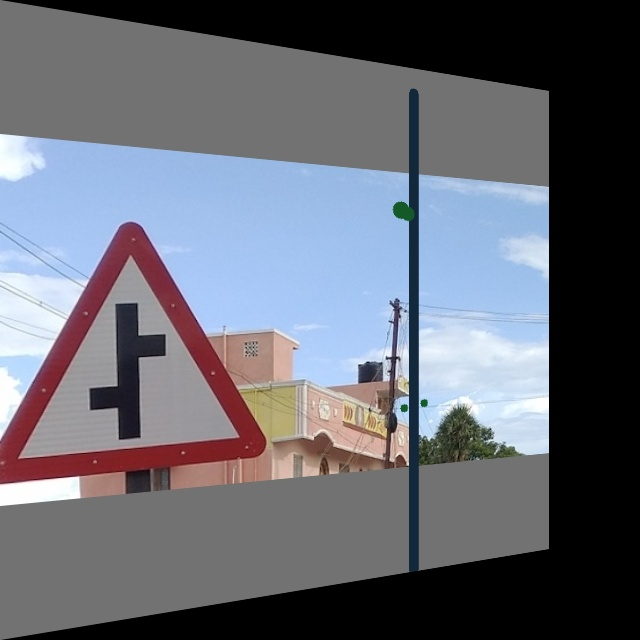Staggered_Intersection: (14, 219, 252, 479)
